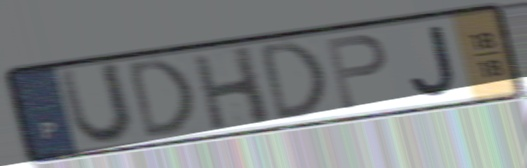D: (256, 37, 330, 126), (124, 55, 198, 143)
H: (188, 43, 276, 133)
J: (406, 22, 460, 99)
P: (321, 31, 390, 113)
U: (54, 59, 138, 148)
